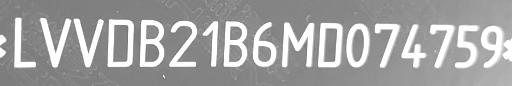letter: (278, 20, 316, 70), (36, 18, 72, 66), (71, 15, 103, 67), (104, 16, 136, 68), (369, 20, 401, 70), (168, 18, 198, 68), (136, 18, 166, 68), (222, 19, 250, 71), (426, 21, 456, 69), (401, 20, 427, 72), (10, 17, 36, 67), (455, 21, 481, 71), (480, 21, 504, 75), (316, 21, 342, 70), (250, 21, 276, 69), (344, 22, 370, 69), (200, 18, 220, 66)
